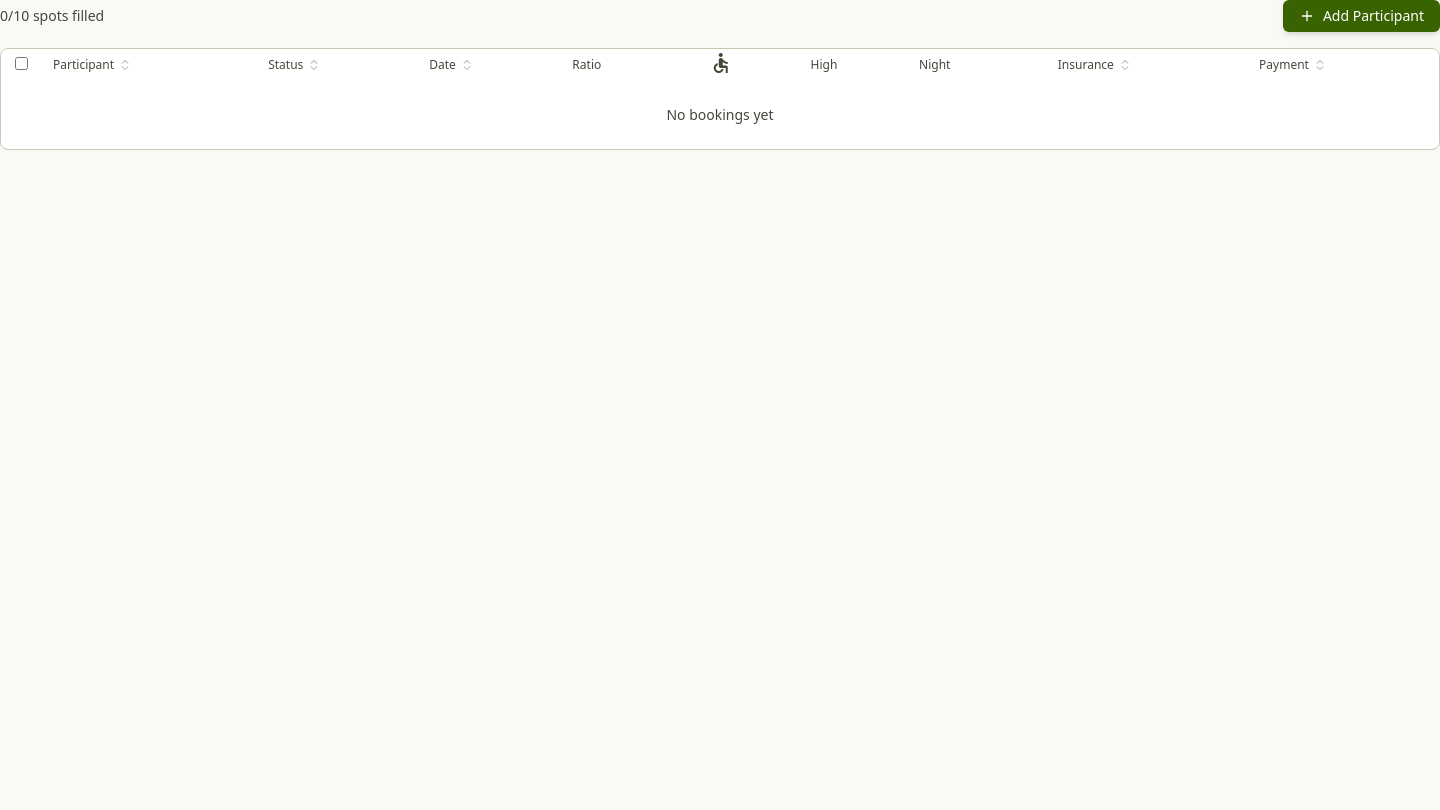
Test: BookingsTab — Add Booking: readiness warning › shows the quiet warning under the picker once a not-ready participant is chosen, follows a change of participant, and never disables Add Booking
This screenshot has width=1440, height=810.
Click the button "Add Participant" at coordinates (1361, 16), box [1283,0,1439,32]
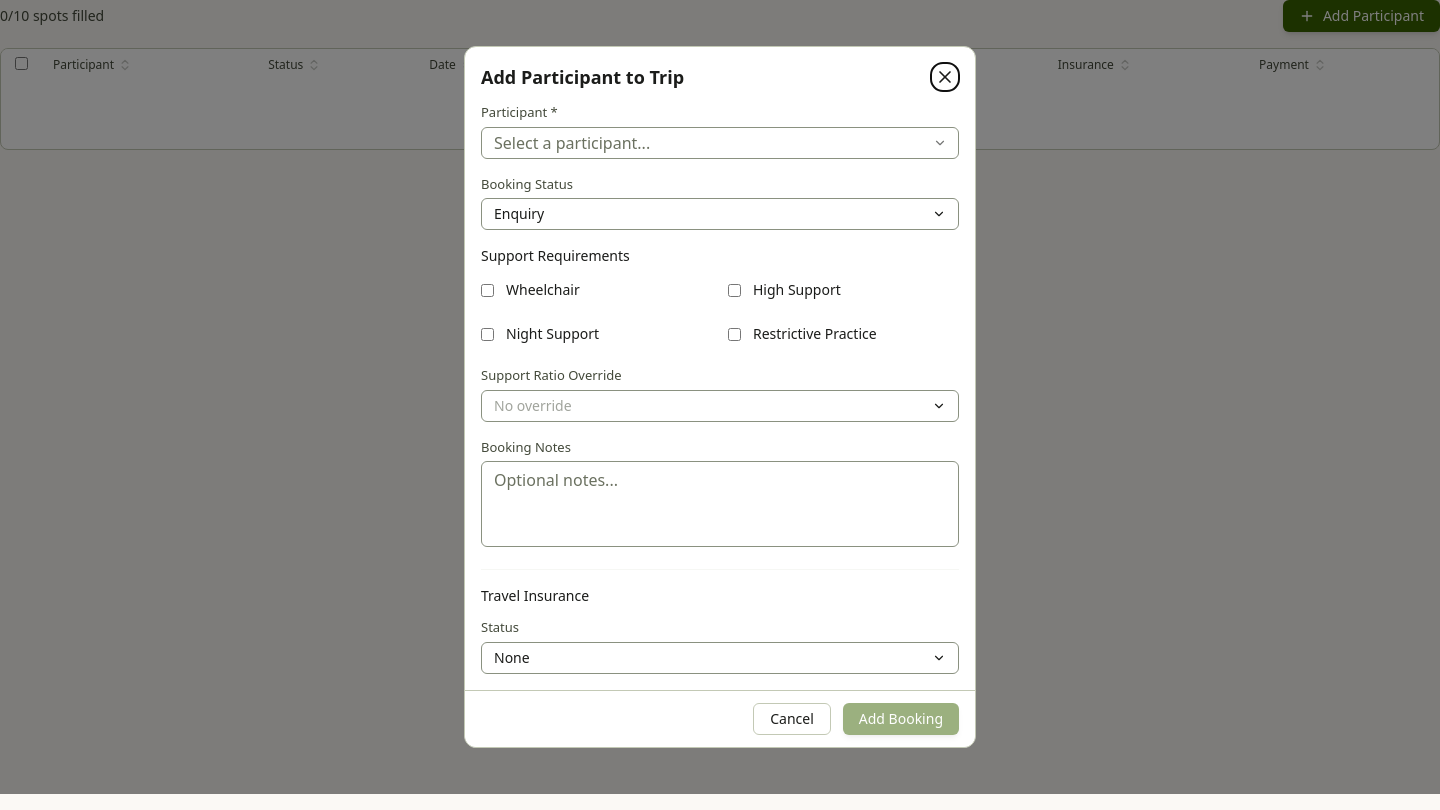
Click the dropdown labelled "Participant *" at coordinates (720, 143), box [481,127,959,159]
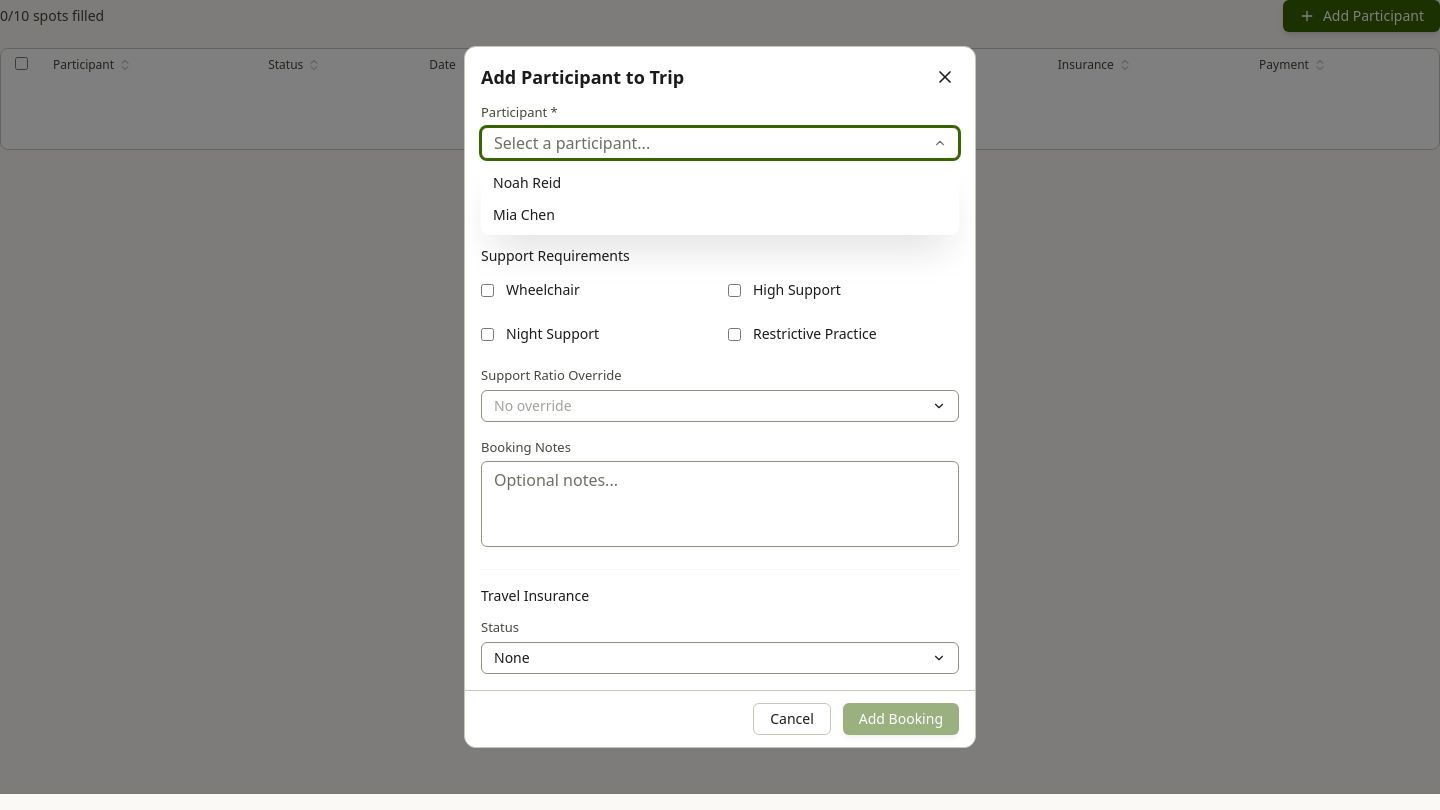
Click the option "Mia Chen" at coordinates (524, 214), box [493,205,555,224]
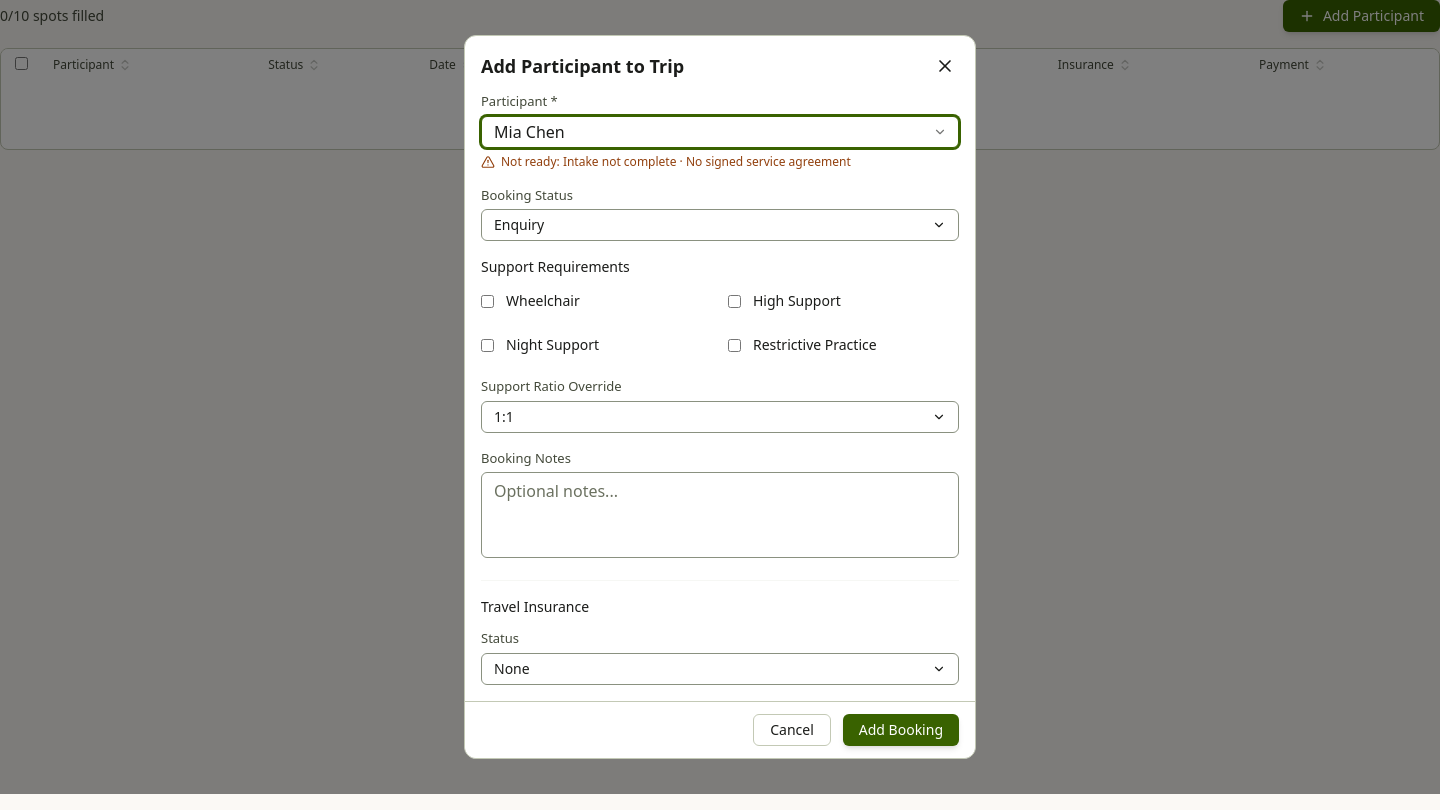
Now the button "Add Booking" is enabled, box [843,714,959,746]
Click the dropdown labelled "Participant *" at coordinates (720, 132), box [481,116,959,148]
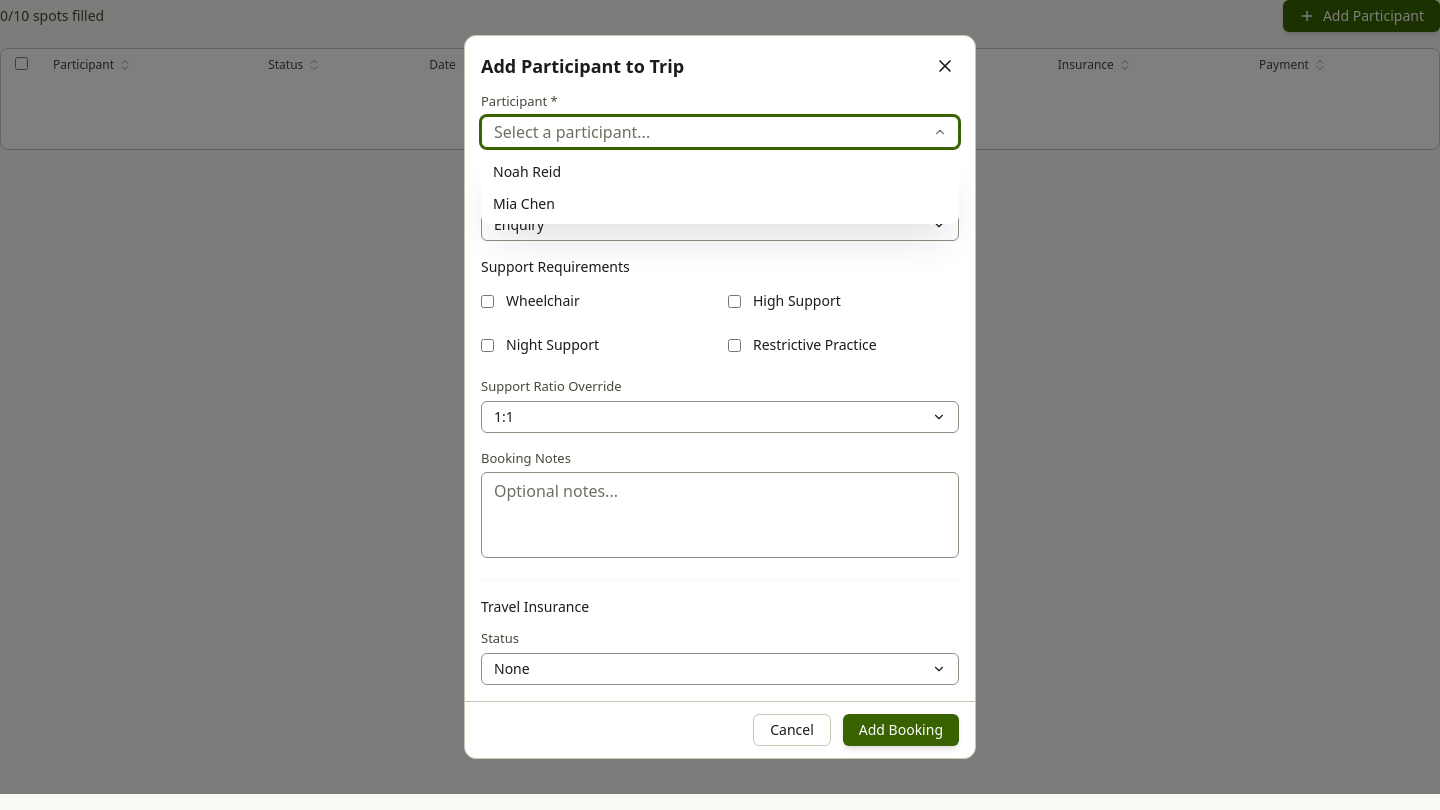
Click the option "Noah Reid" at coordinates (527, 171), box [493,162,561,181]
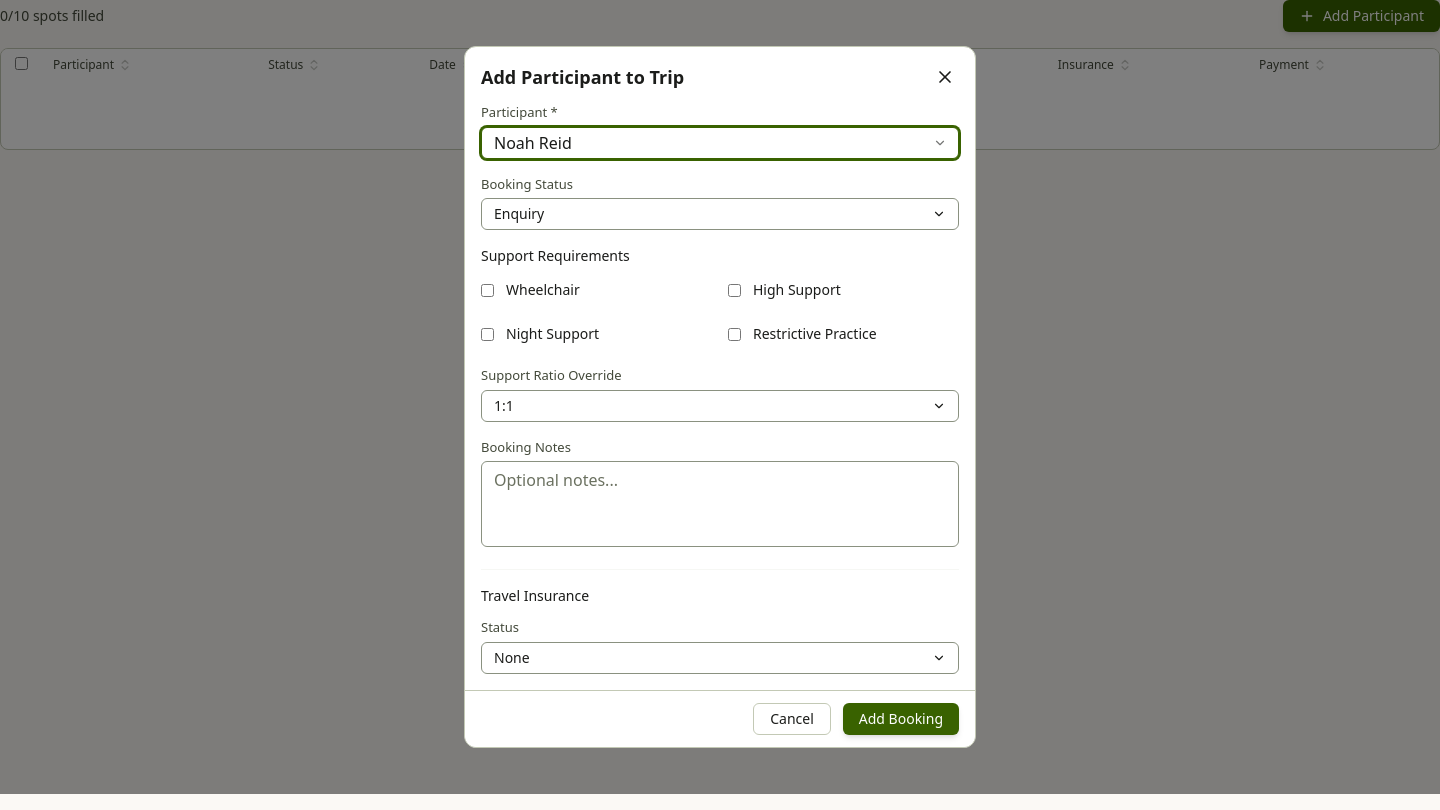
Now the button "Add Booking" is enabled, box [843,703,959,735]
Now the text "Not ready" is gone
